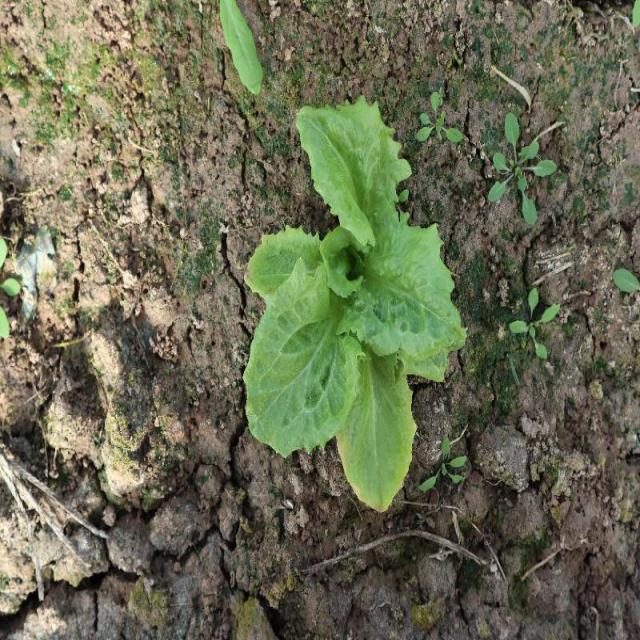crop: (242, 97, 463, 516)
